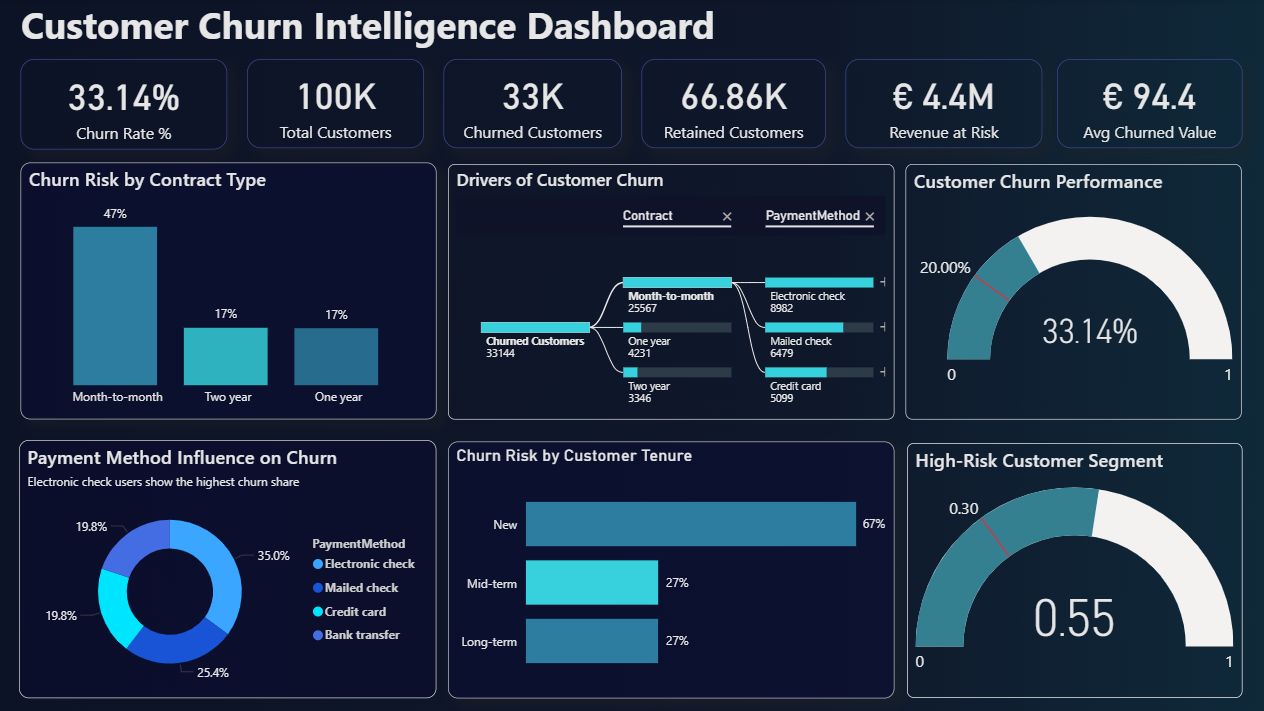

The dashboard page shown, as its layout file describes it:
{"tool":"powerbi","page":{"name":"Page 1","canvas":[1280,720],"ordinal":0},"visuals":[{"type":"card","fields":{"Values":["synthetic_customer_churn_100k.Churn Rate %"]},"box":[22,61,208.5,91.5],"z":0},{"type":"card","fields":{"Values":["synthetic_customer_churn_100k.Total Customers"]},"box":[250.7,60.6,178.9,90.1],"z":1000},{"type":"card","fields":{"Values":["synthetic_customer_churn_100k.Churned Customers"]},"box":[449.3,60.6,180.3,90.1],"z":2000},{"type":"card","fields":{"Values":["synthetic_customer_churn_100k.Retained Customers"]},"box":[649.3,60.6,185.9,90.1],"z":3000},{"type":"clusteredColumnChart","title":"Churn Risk by Contract Type","fields":{"Category":["synthetic_customer_churn_100k.Contract"],"Y":["synthetic_customer_churn_100k.Churn % by Contract"]},"box":[22.5,164.8,419.7,259.2],"z":4000},{"type":"donutChart","title":"Payment Method Influence on Churn","fields":{"Category":["synthetic_customer_churn_100k.PaymentMethod"],"Y":["synthetic_customer_churn_100k.Churned Customers"]},"box":[21.3,445.9,421.3,260.7],"z":5000},{"type":"clusteredBarChart","title":"Churn Risk by Customer Tenure","fields":{"Category":["synthetic_customer_churn_100k.Tenure Group"],"Y":["synthetic_customer_churn_100k.Churn % by Tenure"]},"box":[453.5,446.5,450.7,259.2],"z":6000},{"type":"gauge","title":"Customer Churn Performance","fields":{"Y":["synthetic_customer_churn_100k.Churn Rate %"],"MinValue":["synthetic_customer_churn_100k.Min Gauge"],"MaxValue":["synthetic_customer_churn_100k.Max Gauge"],"TargetValue":["synthetic_customer_churn_100k.Target Churn"]},"box":[915.5,166.2,339.4,257.7],"z":8000},{"type":"decompositionTreeVisual","title":"Drivers of Customer Churn","fields":{"Analyze":["synthetic_customer_churn_100k.Churned Customers"],"ExplainBy":["synthetic_customer_churn_100k.Contract","synthetic_customer_churn_100k.PaymentMethod","synthetic_customer_churn_100k.MonthlyCharges","synthetic_customer_churn_100k.Tenure Group"]},"box":[453.5,166.2,450.7,257.7],"z":9000},{"type":"gauge","title":"High-Risk Customer Segment","fields":{"Y":["synthetic_customer_churn_100k.High Risk %"],"MaxValue":["synthetic_customer_churn_100k.Max Gauge"],"MinValue":["synthetic_customer_churn_100k.Min Gauge"],"TargetValue":["synthetic_customer_churn_100k.Target Risk"]},"box":[916.9,447.5,339,257.6],"z":10000},{"type":"card","fields":{"Values":["synthetic_customer_churn_100k.Revenue at Risk"]},"box":[854.9,60.6,198.6,90.1],"z":11000},{"type":"card","fields":{"Values":["synthetic_customer_churn_100k.Avg Churned Value"]},"box":[1069,60.6,187.3,90.1],"z":12000},{"type":"textbox","box":[18.3,0,774.6,60.6],"z":13000}]}

Visuals, with their boxes in screenshot pixels (x1, y1, x2, y2), scaled from the page's 1280x720 canvas onto the 1264x711 screenshot:
card - synthetic_customer_churn_100k.Churn Rate %: <region>22, 60, 228, 151</region>
card - synthetic_customer_churn_100k.Total Customers: <region>248, 60, 424, 149</region>
card - synthetic_customer_churn_100k.Churned Customers: <region>444, 60, 622, 149</region>
card - synthetic_customer_churn_100k.Retained Customers: <region>641, 60, 825, 149</region>
"Churn Risk by Contract Type" clusteredColumnChart: <region>22, 163, 437, 419</region>
"Payment Method Influence on Churn" donutChart: <region>21, 440, 437, 698</region>
"Churn Risk by Customer Tenure" clusteredBarChart: <region>448, 441, 893, 697</region>
"Customer Churn Performance" gauge: <region>904, 164, 1239, 419</region>
"Drivers of Customer Churn" decompositionTreeVisual: <region>448, 164, 893, 419</region>
"High-Risk Customer Segment" gauge: <region>905, 442, 1240, 696</region>
card - synthetic_customer_churn_100k.Revenue at Risk: <region>844, 60, 1040, 149</region>
card - synthetic_customer_churn_100k.Avg Churned Value: <region>1056, 60, 1241, 149</region>
textbox: <region>18, 0, 783, 60</region>
